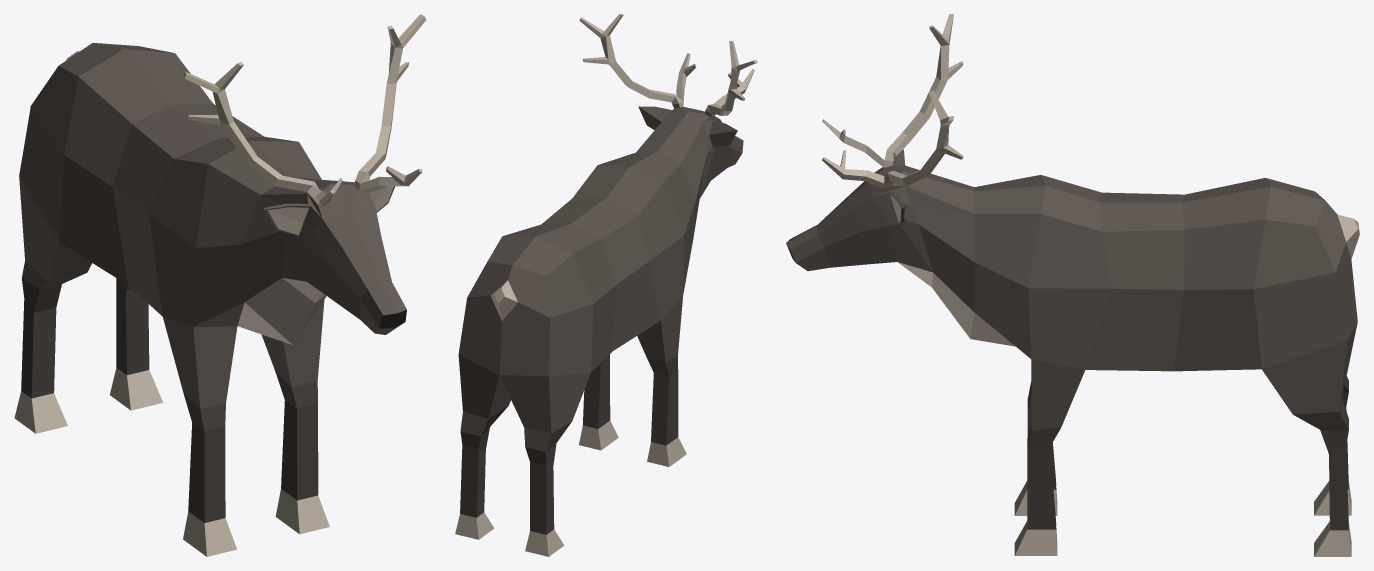
The model's file is Model_Tonakai.fbx.
3 views of the same model, side by side, from view 1: azimuth 30°, elevation 25°; view 2: azimuth 150°, elevation 25°; view 3: azimuth 270°, elevation 25° (orthographic). The views are drawn at different scales.
Visible parts, largest first — view 1: Tonakai; view 2: Tonakai; view 3: Tonakai.
Part boxes in pixels (left/top/right/bottom): Tonakai: left=14, top=14, right=426, bottom=556; Tonakai: left=455, top=14, right=757, bottom=556; Tonakai: left=786, top=14, right=1359, bottom=556.
Bounding box in the file's own units: 135 × 283 × 313.
